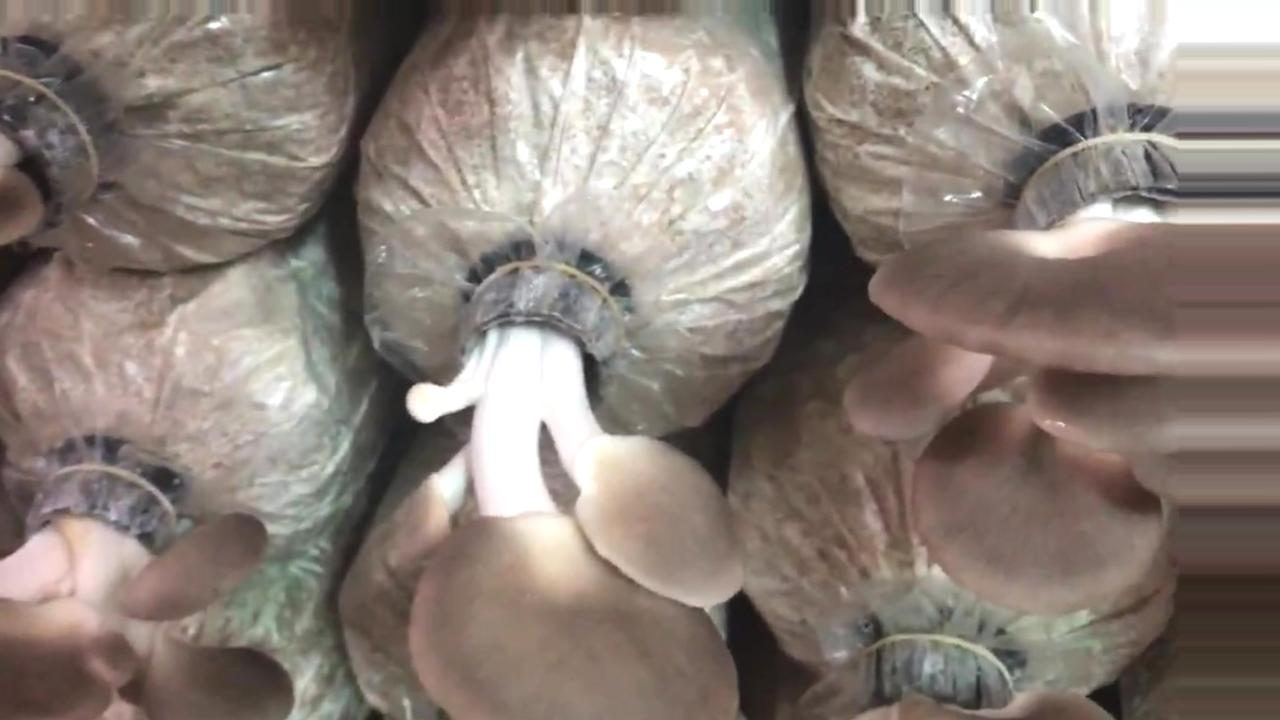nam: (852, 137, 1280, 607), (396, 262, 745, 720), (3, 471, 300, 720)
